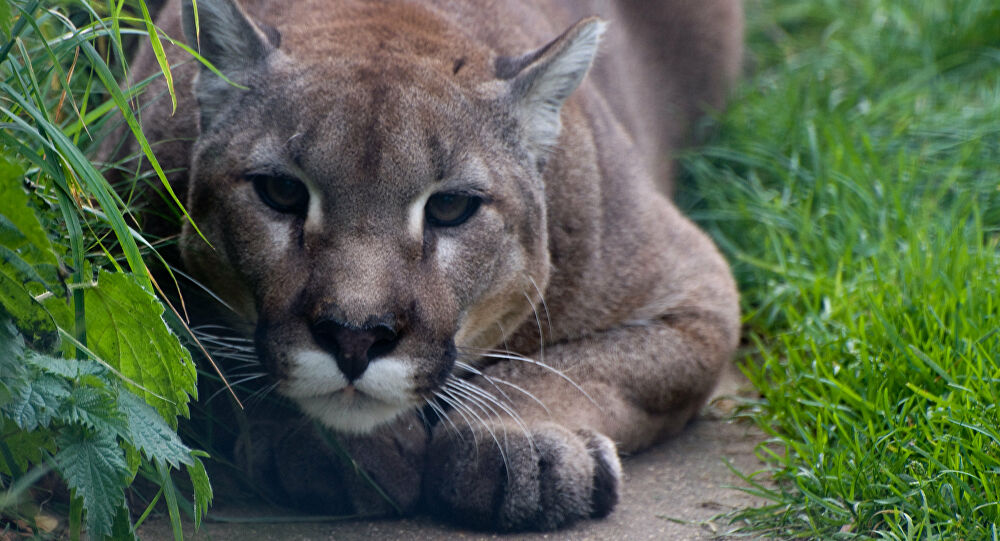OncaParda: (90, 4, 757, 536)
